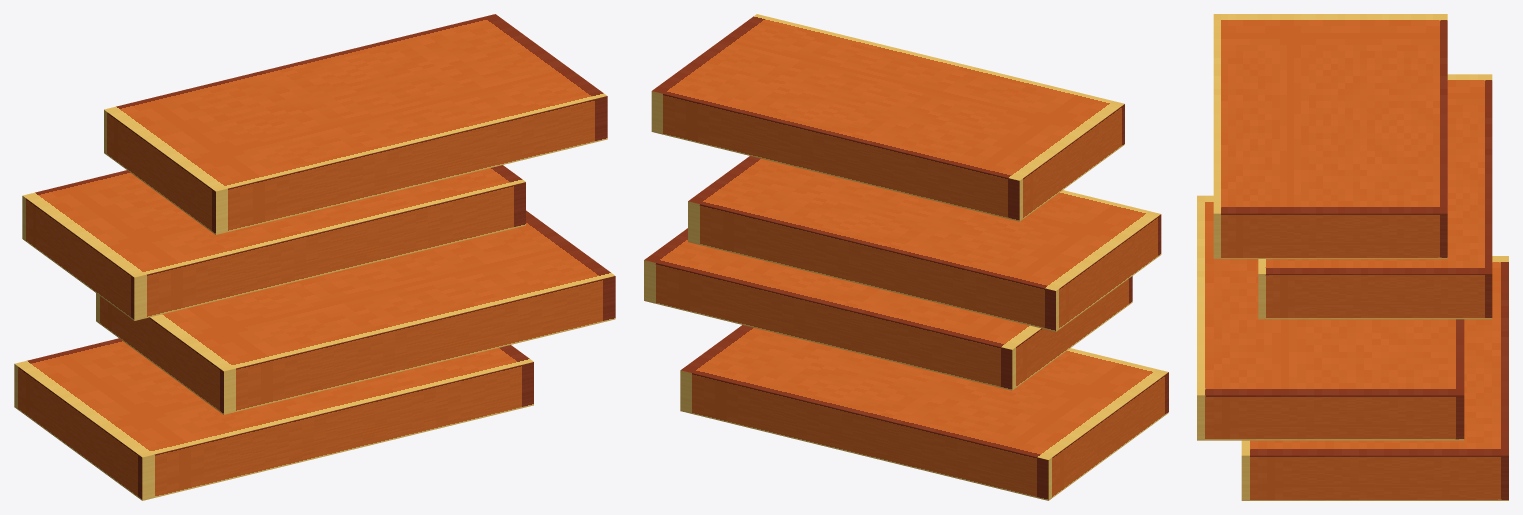
Rendered from bench_leggings_0_hot.obj.
The picture shows the model from 3 angles, left to right: view 1: azimuth 30°, elevation 25°; view 2: azimuth 150°, elevation 25°; view 3: azimuth 270°, elevation 25°; orthographic projection. The views are drawn at different scales.
Visible parts, largest first — view 1: geometry; view 2: geometry; view 3: geometry.
Boxes of the visible parts, x1,y1,x2,y2 form: geometry: (14, 14, 615, 500); geometry: (644, 14, 1168, 500); geometry: (1197, 14, 1508, 500).
Bounding box in the file's own units: 0.3881 × 0.25 × 0.2222.
